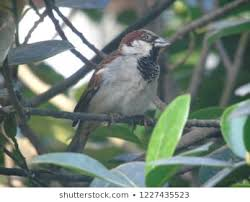home_sparrow: (64, 30, 175, 156)
